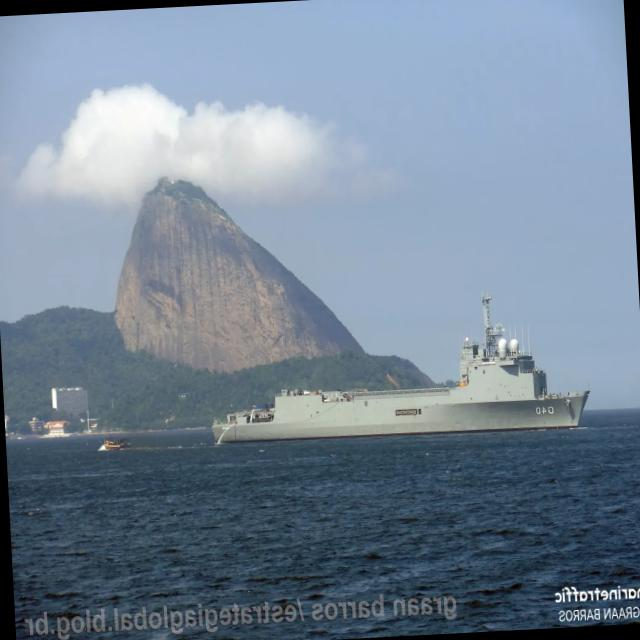Military: (215, 296, 589, 441)
